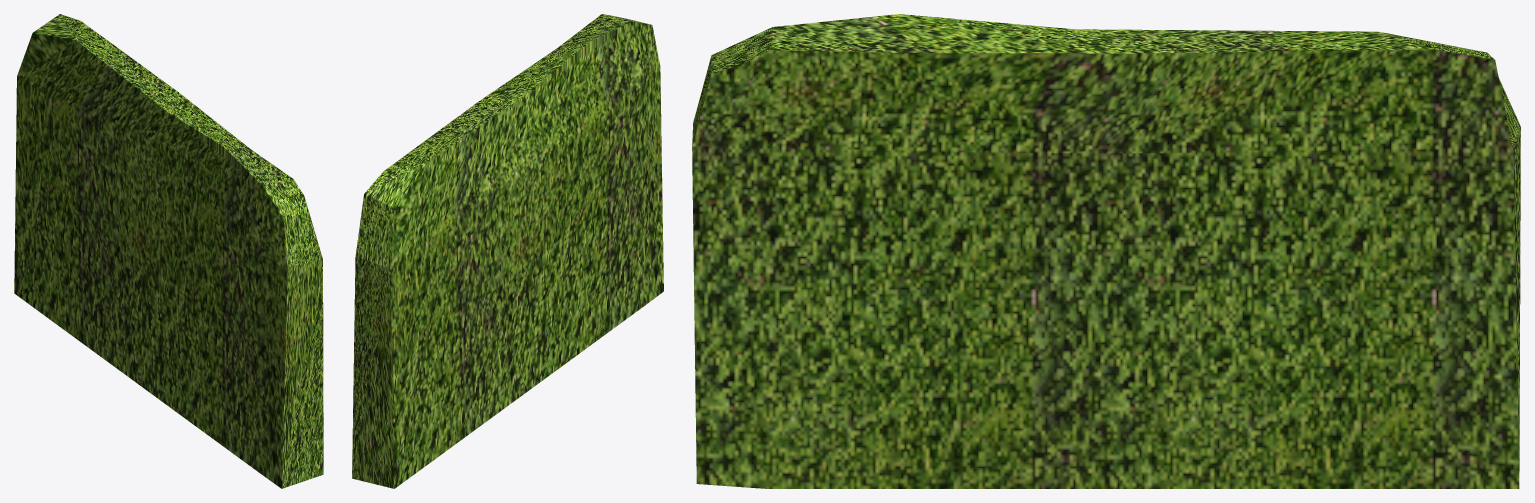
The model's file is hedge_5x3x0.5.glb.
3 views of the same model, side by side, from view 1: azimuth 30°, elevation 25°; view 2: azimuth 150°, elevation 25°; view 3: azimuth 270°, elevation 25° (orthographic). The views are drawn at different scales.
Visible parts, largest first — view 1: Cube.001; view 2: Cube.001; view 3: Cube.001.
Boxes of the visible parts, left/top/right/bottom form: Cube.001: left=14, top=14, right=323, bottom=488; Cube.001: left=352, top=14, right=663, bottom=488; Cube.001: left=692, top=14, right=1520, bottom=488.
Size of the model in its own units: 0.5 by 3 by 5.
Materials: 1 (1 with a texture image).
